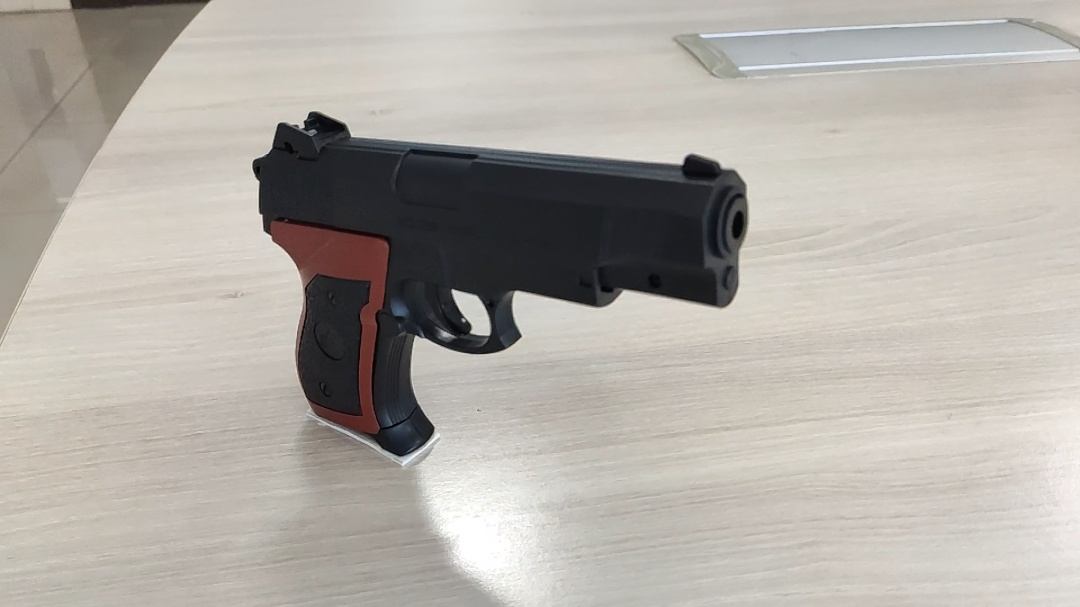gun: (250, 110, 752, 460)
